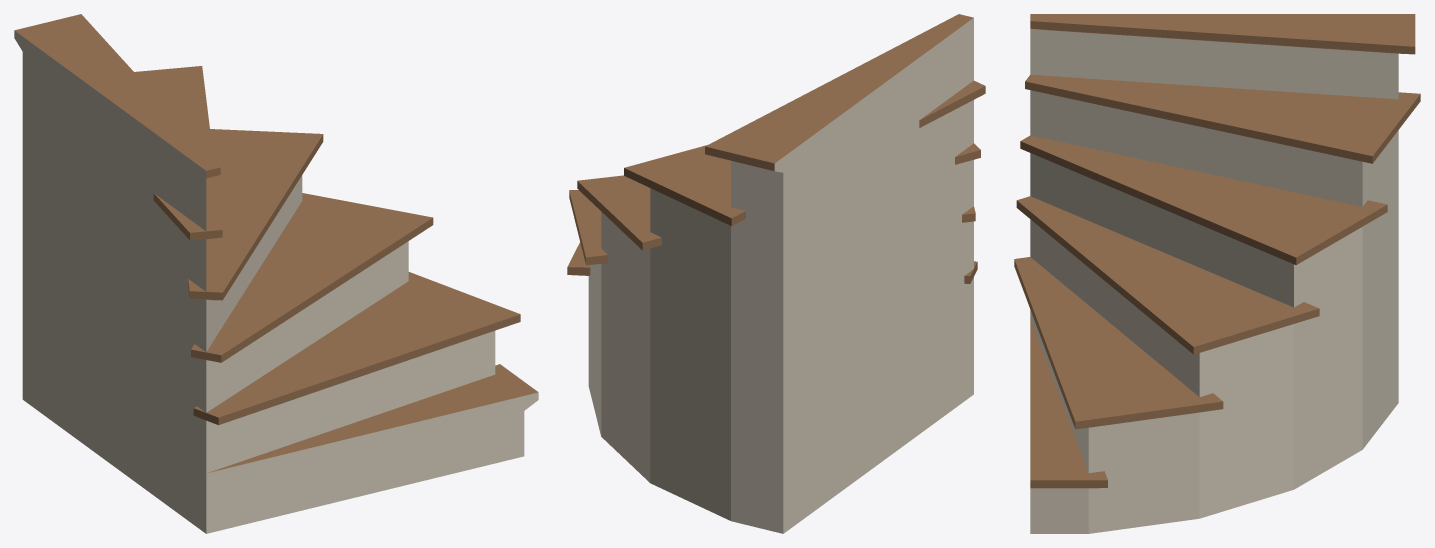
File: Stairs_Curved_Small_Steps.obj
3 renders of one model, left to right at view 1: azimuth 30°, elevation 25°; view 2: azimuth 150°, elevation 25°; view 3: azimuth 270°, elevation 25°, orthographic. The views are drawn at different scales.
Visible parts, largest first — view 1: object1; view 2: object1; view 3: object1.
Part boxes in pixels (left/top/right/bottom): object1: left=14, top=14, right=538, bottom=533; object1: left=567, top=14, right=985, bottom=533; object1: left=1014, top=14, right=1420, bottom=533.
Bounding box in the file's own units: 1.21 × 1.2 × 1.21.
